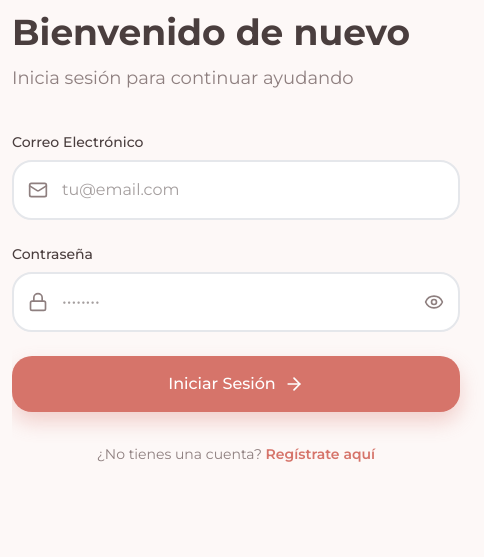
Test: LoginForm › muestra error del servidor cuando login falla
In the field labelled "Correo Electrónico": [236, 190] box [12,160,460,220], type "user@hadassa.com"
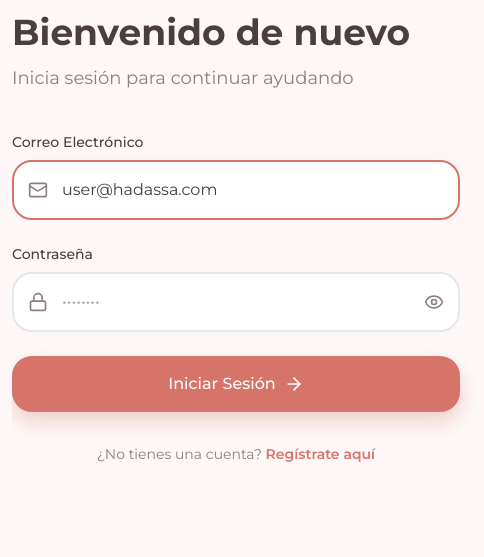
In the password field labelled "Contraseña": [236, 302] box [12,272,460,332], type "wrongpass"
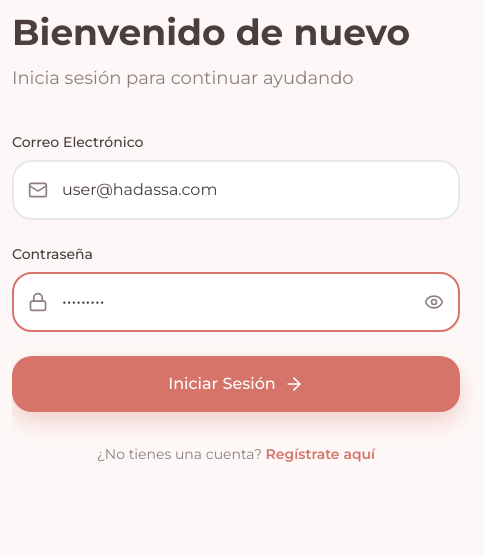
Submit the form "Correo Electrónico Contraseña Iniciar Sesión", box [12,132,460,412]
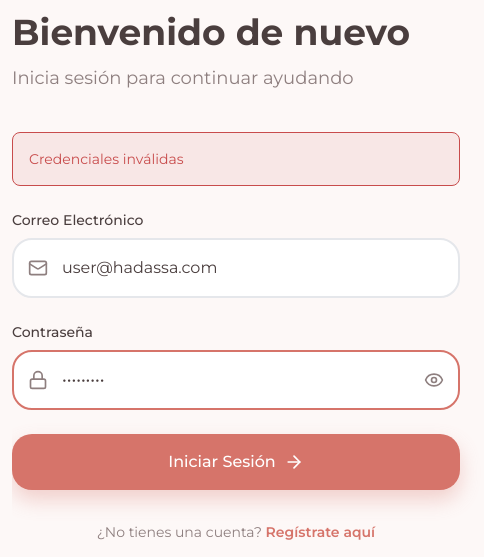
Expected: the text "Credenciales inválidas" is shown, [12,132,460,186]
